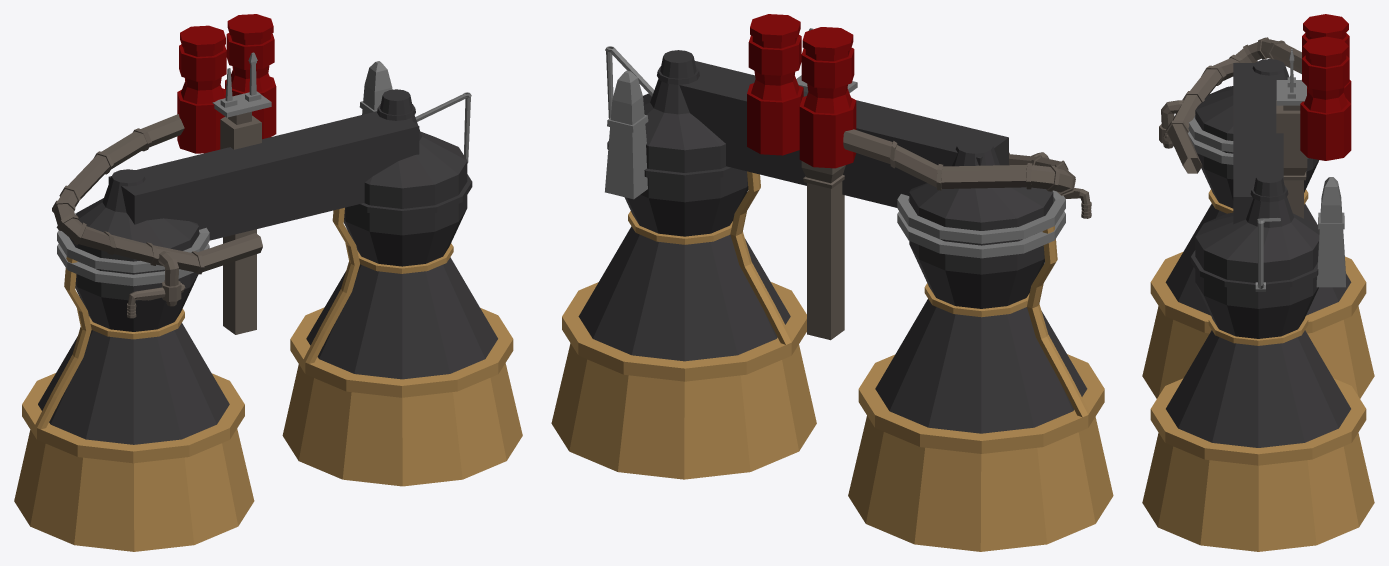
The picture shows the model from 3 angles, left to right: view 1: azimuth 30°, elevation 25°; view 2: azimuth 150°, elevation 25°; view 3: azimuth 270°, elevation 25°; orthographic projection. The views are drawn at different scales.
Parts seen in each view (by area): view 1: Cylinder.010, Cylinder, Cube.003, Cylinder.002, Cylinder.012, Cylinder.006, Cylinder.008, Cylinder.009, Cylinder.007, Cylinder.004, Cylinder.003, Cylinder.005 (+5 smaller); view 2: Cylinder.010, Cylinder, Cube.003, Cylinder.002, Cylinder.012, Cylinder.009, Cylinder.008, Cylinder.007, Cylinder.006, Cylinder.015, Cylinder.004, Cylinder.003 (+3 smaller); view 3: Cylinder.010, Cylinder, Cube.003, Cylinder.009, Cylinder.012, Cylinder.006, Cylinder.002, Cylinder.015, Cylinder.007, Cylinder.008, Cylinder.011, Cylinder.004 (+4 smaller).
Part boxes in pixels (x1,y1,x2,y2): Cylinder.010: (282, 89, 522, 486); Cylinder: (14, 169, 254, 551); Cube.003: (108, 111, 419, 240); Cylinder.002: (22, 256, 244, 463); Cylinder.012: (290, 207, 513, 397); Cylinder.006: (52, 114, 262, 274); Cylinder.008: (177, 25, 226, 153); Cylinder.009: (225, 14, 276, 139); Cylinder.007: (220, 111, 261, 334); Cylinder.004: (57, 213, 209, 272); Cylinder.003: (57, 243, 209, 286); Cylinder.005: (127, 251, 185, 318); Cylinder.010: (551, 50, 816, 479); Cylinder: (848, 138, 1113, 551); Cube.003: (679, 61, 1008, 207); Cylinder.002: (858, 226, 1104, 453); Cylinder.012: (562, 171, 806, 381); Cylinder.009: (747, 14, 803, 155); Cylinder.008: (799, 27, 856, 168); Cylinder.007: (801, 161, 845, 340); Cylinder.006: (843, 129, 1075, 195); Cylinder.015: (605, 70, 648, 199); Cylinder.004: (897, 190, 1065, 243); Cylinder.003: (897, 211, 1065, 258); Cylinder.010: (1142, 171, 1374, 551); Cylinder: (1142, 59, 1374, 398); Cube.003: (1233, 63, 1283, 224); Cylinder.009: (1300, 36, 1351, 160); Cylinder.012: (1150, 378, 1366, 465); Cylinder.006: (1166, 37, 1301, 173); Cylinder.002: (1150, 252, 1366, 333); Cylinder.015: (1316, 177, 1345, 287); Cylinder.007: (1276, 100, 1307, 218); Cylinder.008: (1302, 14, 1351, 103); Cylinder.011: (1208, 316, 1308, 345); Cylinder.004: (1188, 89, 1233, 152).
Bounding box in the file's own units: 5.77 × 4.8 × 2.52.
